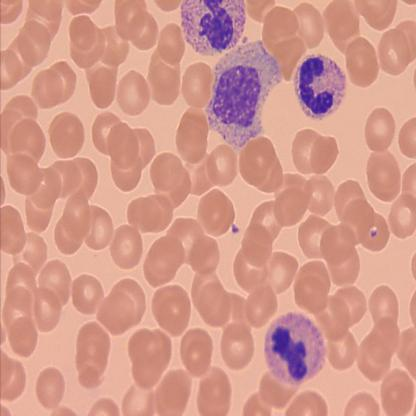Myelocyte: (204, 38, 284, 150)
